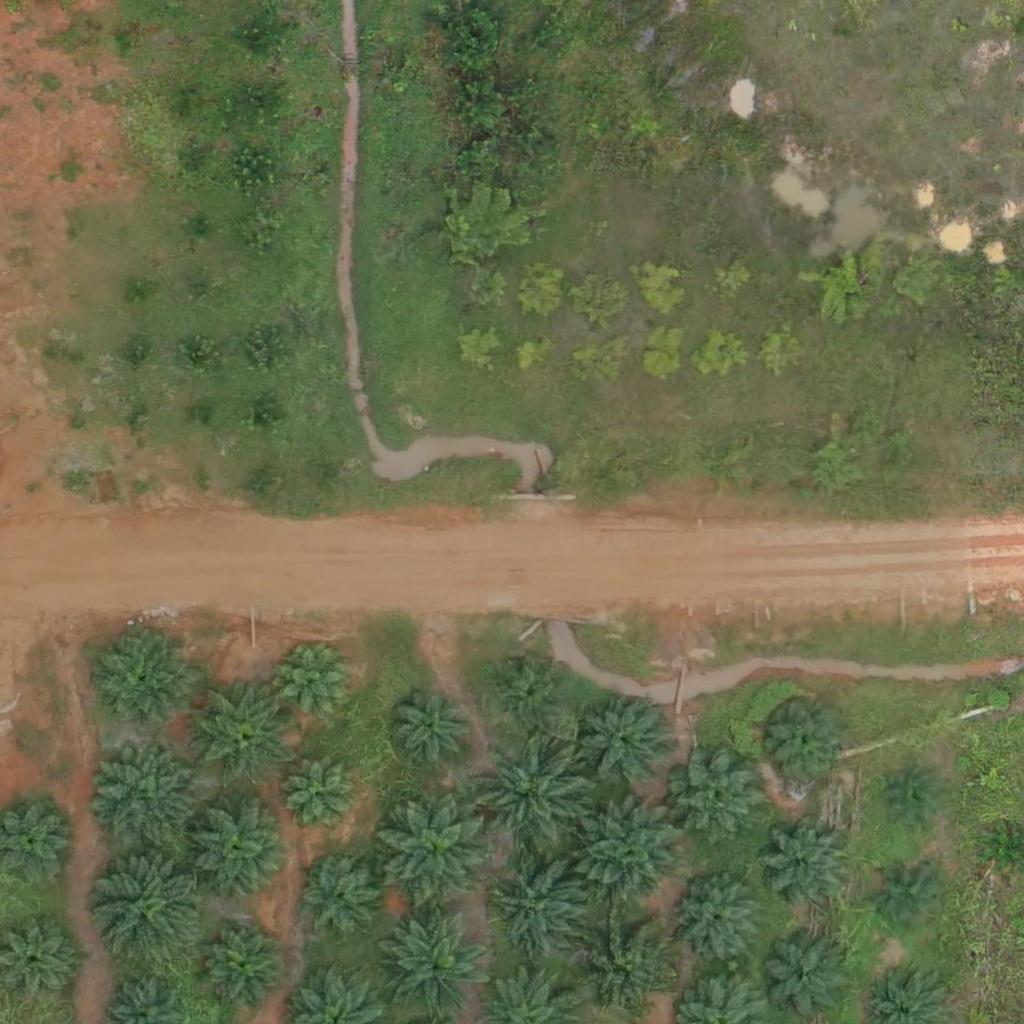Kelapa_Sawit: (478, 726, 603, 851), (93, 743, 206, 857), (99, 850, 212, 964), (380, 790, 493, 903), (385, 909, 498, 1022), (94, 630, 194, 731), (192, 681, 292, 782), (493, 856, 593, 957), (581, 802, 681, 903), (573, 918, 673, 1019), (192, 801, 292, 901), (582, 700, 670, 788), (389, 686, 476, 775), (277, 639, 364, 727), (673, 754, 760, 842), (675, 879, 762, 967), (763, 821, 850, 909), (761, 934, 848, 1022), (768, 700, 843, 776), (205, 930, 280, 1006), (307, 863, 382, 939), (282, 756, 357, 831), (879, 866, 941, 929), (502, 663, 564, 726), (889, 776, 939, 826)
